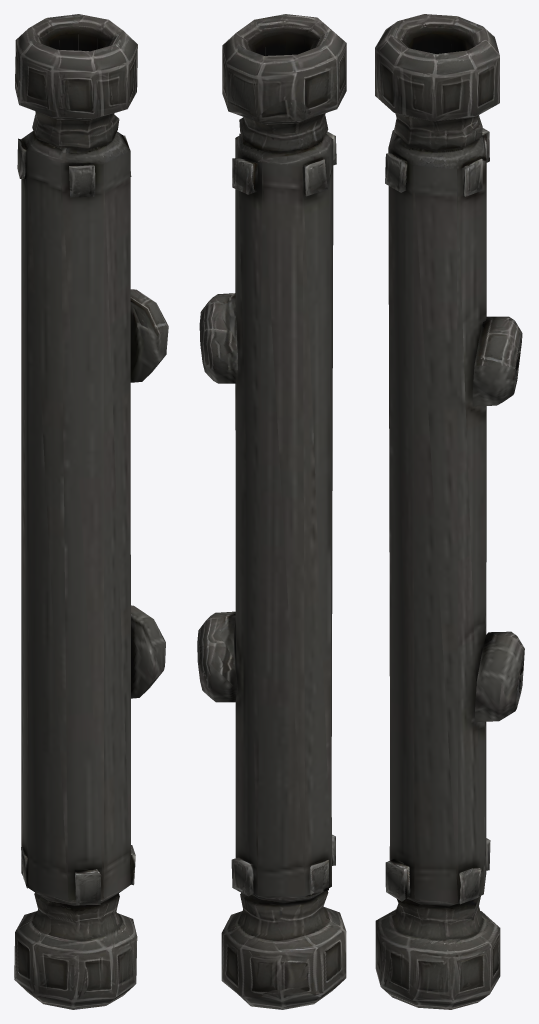
The model's file is cold-iron-v2-rod-a-spine.glb.
The picture shows the model from 3 angles, left to right: view 1: azimuth 30°, elevation 25°; view 2: azimuth 150°, elevation 25°; view 3: azimuth 330°, elevation 25°; orthographic projection.
Visible parts, largest first — view 1: tripo_node_02809822-a1b0-49e1-9a71-fbb643103b85; view 2: tripo_node_02809822-a1b0-49e1-9a71-fbb643103b85; view 3: tripo_node_02809822-a1b0-49e1-9a71-fbb643103b85.
Boxes of the visible parts, x1,y1,x2,y2 form: tripo_node_02809822-a1b0-49e1-9a71-fbb643103b85: (14, 14, 168, 1009); tripo_node_02809822-a1b0-49e1-9a71-fbb643103b85: (197, 14, 346, 1009); tripo_node_02809822-a1b0-49e1-9a71-fbb643103b85: (375, 14, 524, 1009).
Size of the model in its own units: 0.2122 by 1.4 by 0.1721.
1 material, 1 textured.
